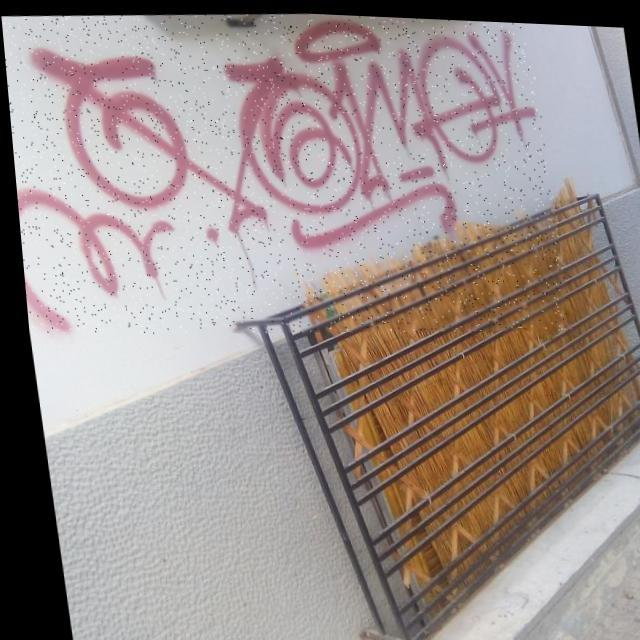-: (0, 0, 567, 353)
